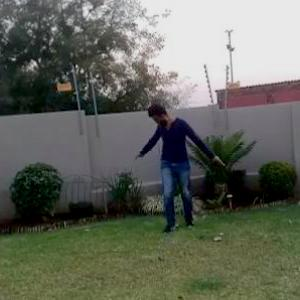land: (114, 90, 219, 244)
